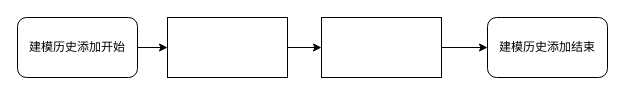
Some shapes in this 625 by 95 pixel diagram are drawn without their labels. Here are the shapes that lost their labels. From the top down, the box of each, then its label:
(166, 16, 288, 78): 创建特征对象加入特征历史容器
(320, 16, 442, 78): 更新特征历史树
